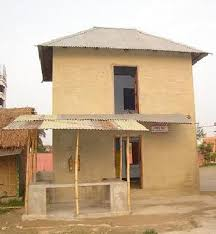Mud House: (22, 24, 207, 216)
